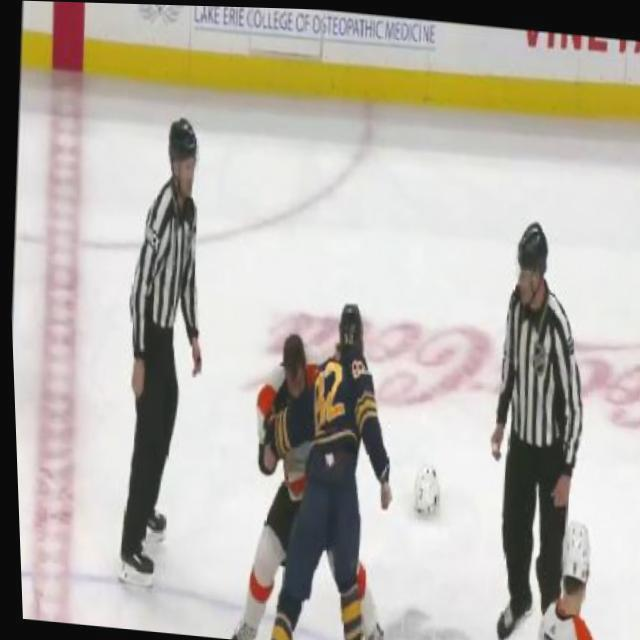fight: (232, 286, 406, 640)
